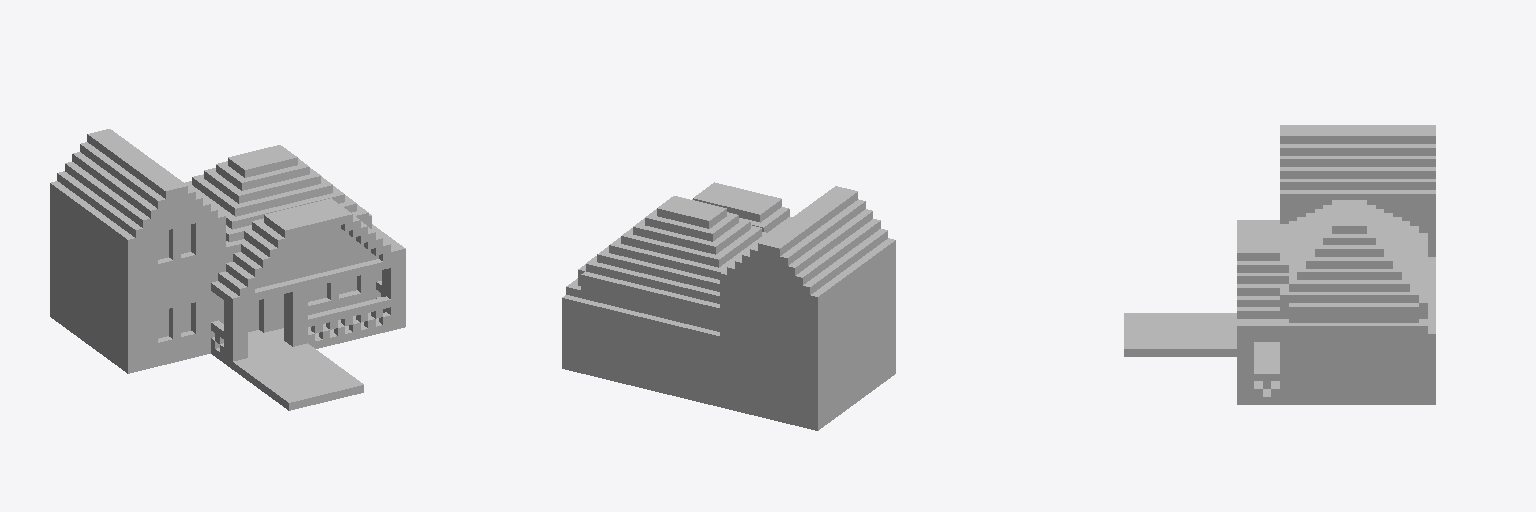
The model's file is House2.obj.
The picture shows the model from 3 angles: view 1: azimuth 30°, elevation 25°; view 2: azimuth 150°, elevation 25°; view 3: azimuth 270°, elevation 25°; orthographic projection.
Parts seen in each view (by area): view 1: object 1; view 2: object 1; view 3: object 1.
Boxes of the visible parts, x1=… form: object 1: x1=50, y1=129, x2=405, y2=410; object 1: x1=562, y1=182, x2=895, y2=430; object 1: x1=1124, y1=125, x2=1435, y2=404.
Bounding box in the file's own units: 3.4 × 2.2 × 3.6.